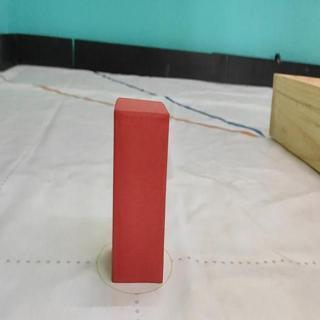redbox: (113, 97, 169, 282)
